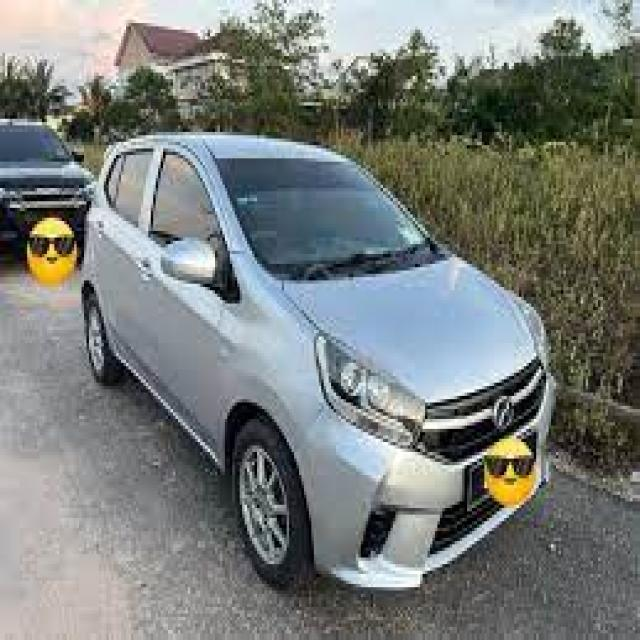PeroduaAxia: (77, 125, 556, 594)
